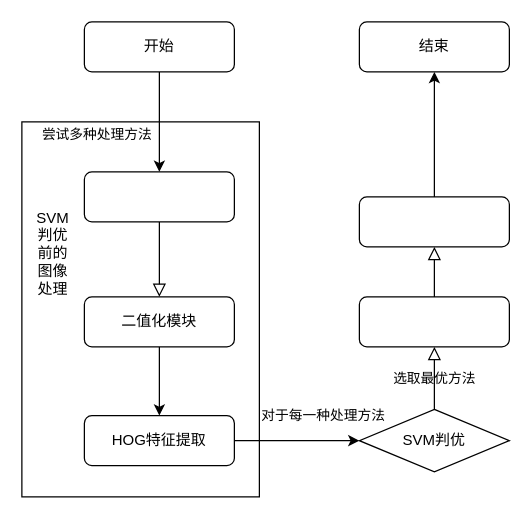
Some shapes in this 531 by 519 pixel diagram are drawn without their labels. The shapes that lost their labels are listed below. From the top down, each one's centre as x and y in pixels, then its label:
At pixel 158 196: "图像预处理模块".
At pixel 433 221: "颜色处理、边框处理".
At pixel 433 321: "提取图像轮廓".
